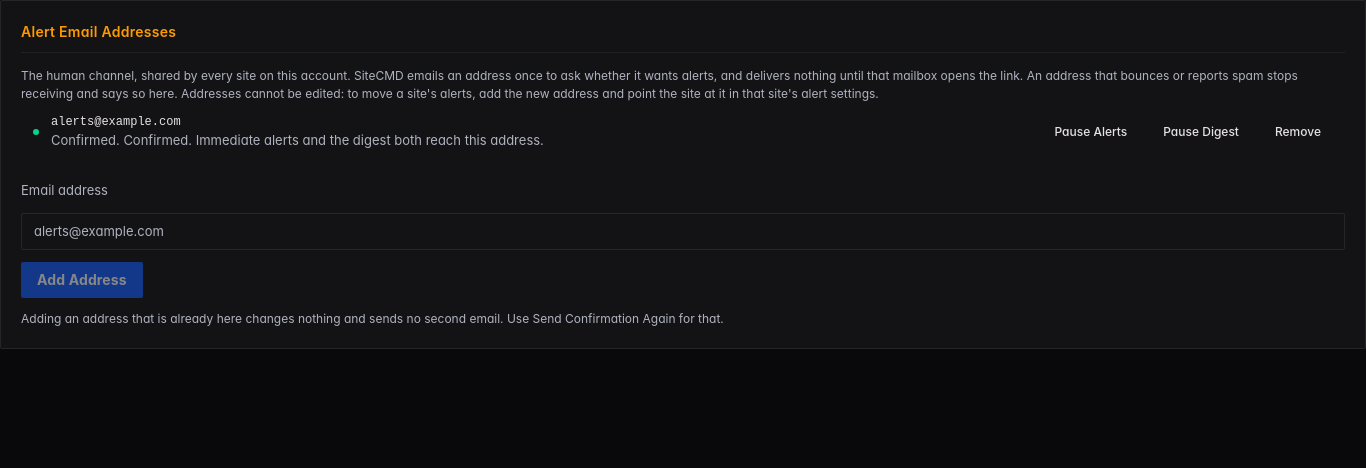
Test: ConnectedAlertDestinationsSection › turns a refused delete into the sites the person has to detach first
Click the button "Remove" at (1298, 132), box left=1263, top=116, right=1333, bottom=148
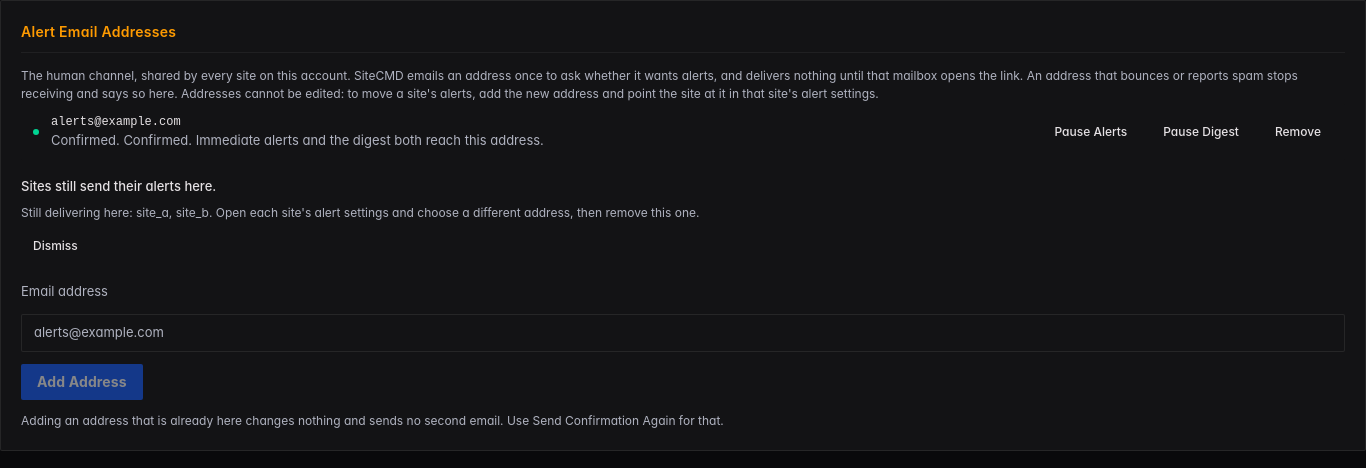
Check: the text "Sites still send their alerts here." is shown, box left=21, top=178, right=216, bottom=194
Check: the text "choose a different address, then remove this one" is shown, box left=21, top=205, right=700, bottom=220
